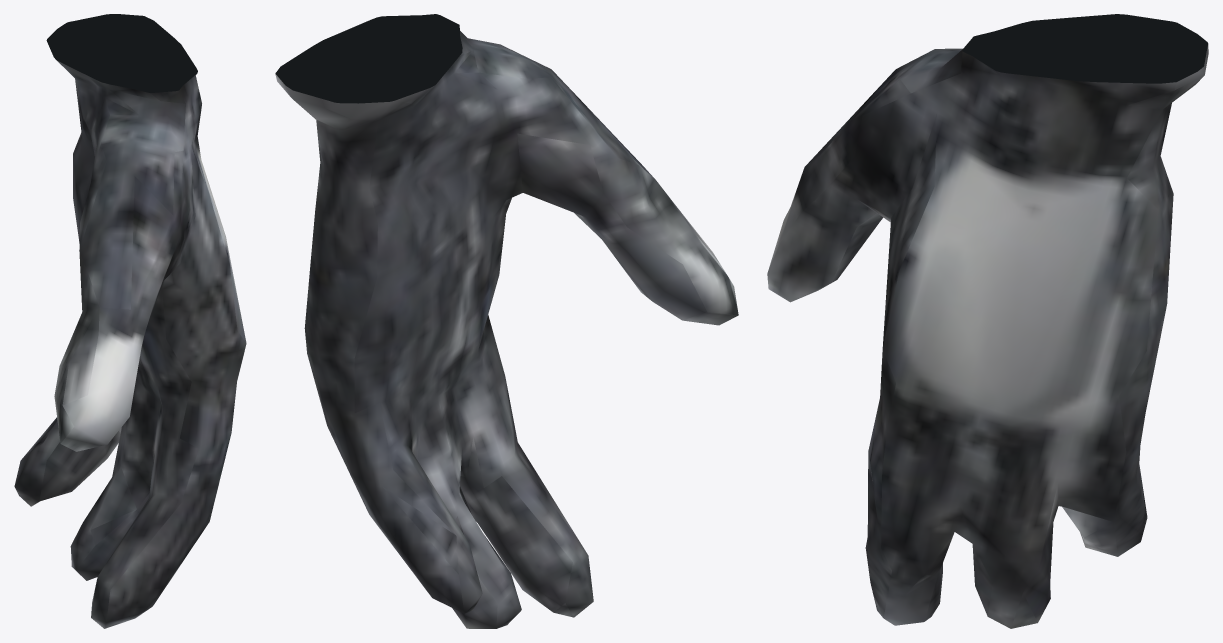
File: left_hand.obj
3 renders of one model, left to right at view 1: azimuth 30°, elevation 25°; view 2: azimuth 150°, elevation 25°; view 3: azimuth 270°, elevation 25°, orthographic. The views are drawn at different scales.
Parts seen in each view (by area): view 1: left_hand; view 2: left_hand; view 3: left_hand.
Part boxes in pixels (x1,y1,x2,y2): left_hand: [14, 14, 246, 628]; left_hand: [275, 14, 738, 628]; left_hand: [767, 14, 1208, 628].
Size of the model in its own units: 0.1294 by 0.2567 by 0.1633.
2 materials, 1 textured.
